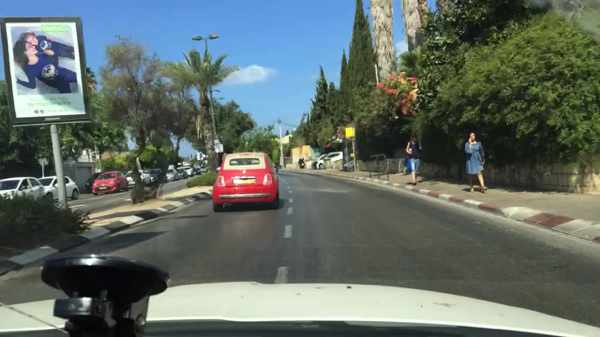car: (210, 152, 280, 213), (0, 176, 45, 204), (41, 176, 80, 202), (92, 170, 129, 196), (126, 170, 154, 187), (318, 152, 343, 170), (309, 153, 335, 170), (160, 163, 176, 184), (146, 168, 168, 182), (341, 154, 358, 171), (173, 164, 188, 181), (178, 166, 194, 178), (191, 166, 201, 176), (198, 165, 209, 173)
motor: (297, 157, 306, 169)
person: (464, 132, 488, 195), (404, 131, 421, 187)
traffic sign: (344, 127, 355, 138), (161, 146, 173, 152)
